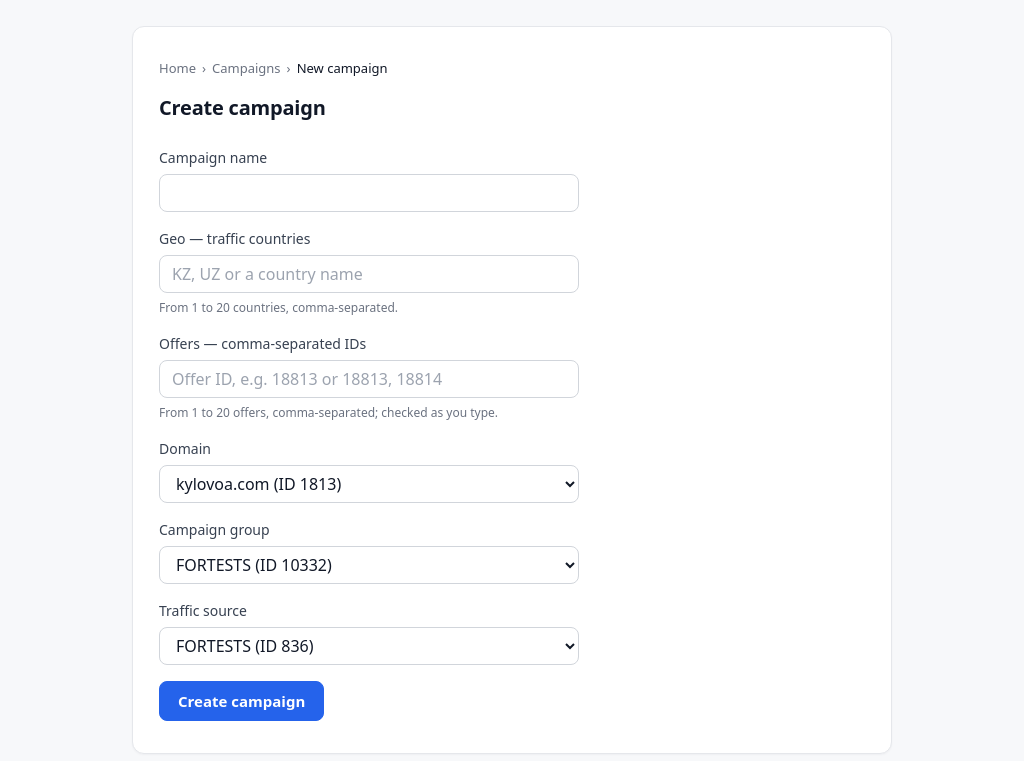
Test: NewCampaignPage — validation › empty form: name error, no POST
Expected: the dropdown with id "campaign-domain" shows "kylovoa.com (ID 1813)", 159,464 -> 579,502
Step 1. Type "leo_kz" into the field with id "campaign-name" → (369, 192), box 159,174 -> 579,212
Step 2. Type "KZ" into the dropdown with id "geo-input" → (369, 274), box 159,254 -> 579,292
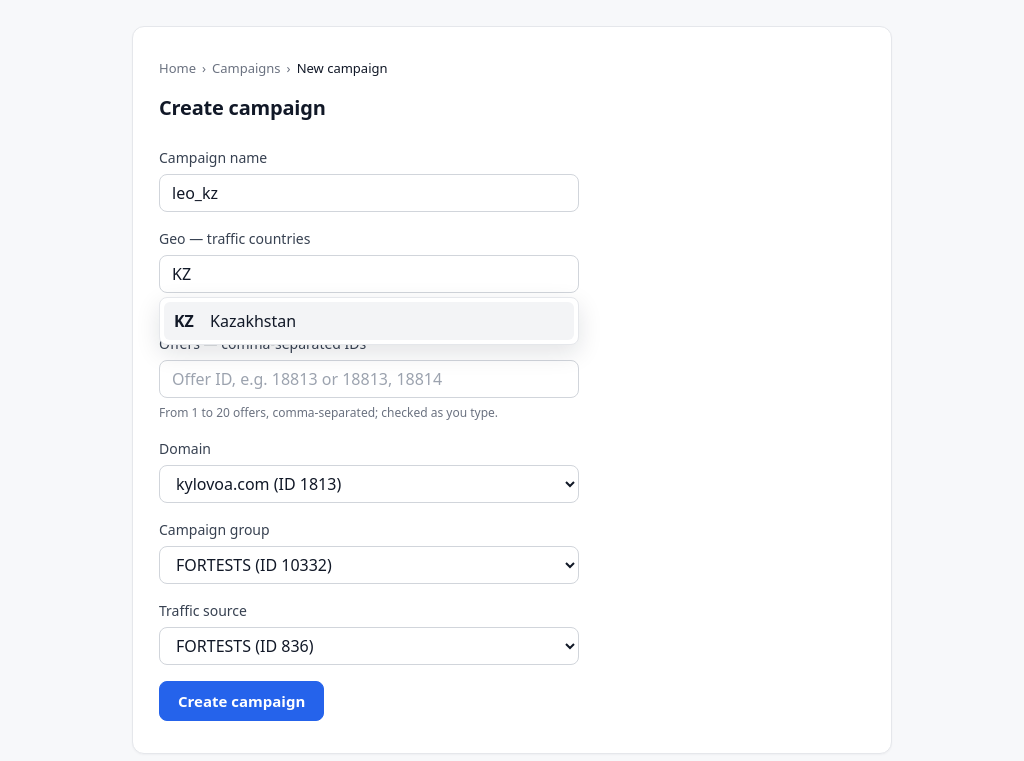
Step 3. Press Enter in the dropdown with id "geo-input", box 159,254 -> 579,292
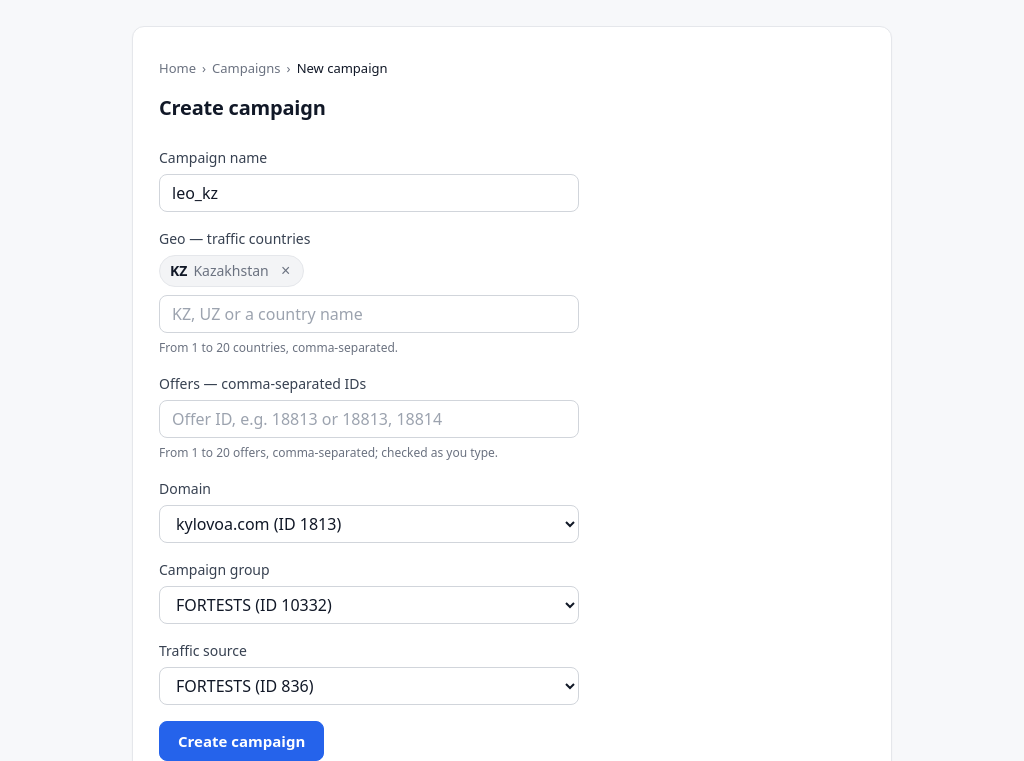
Step 4. Type "18813" into the field with id "offer-input" → (369, 418), box 159,400 -> 579,438
Step 5. Press Enter in the field with id "offer-input", box 159,400 -> 579,438
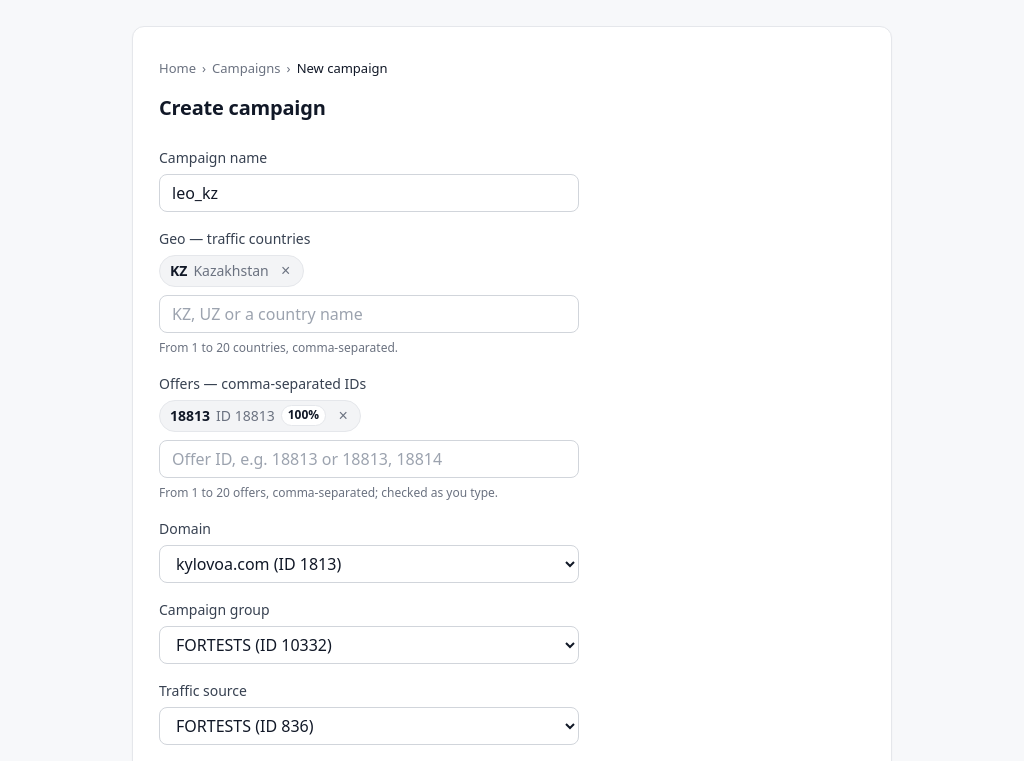
Step 6. Clear the field with id "campaign-name" → (369, 192), box 159,174 -> 579,212
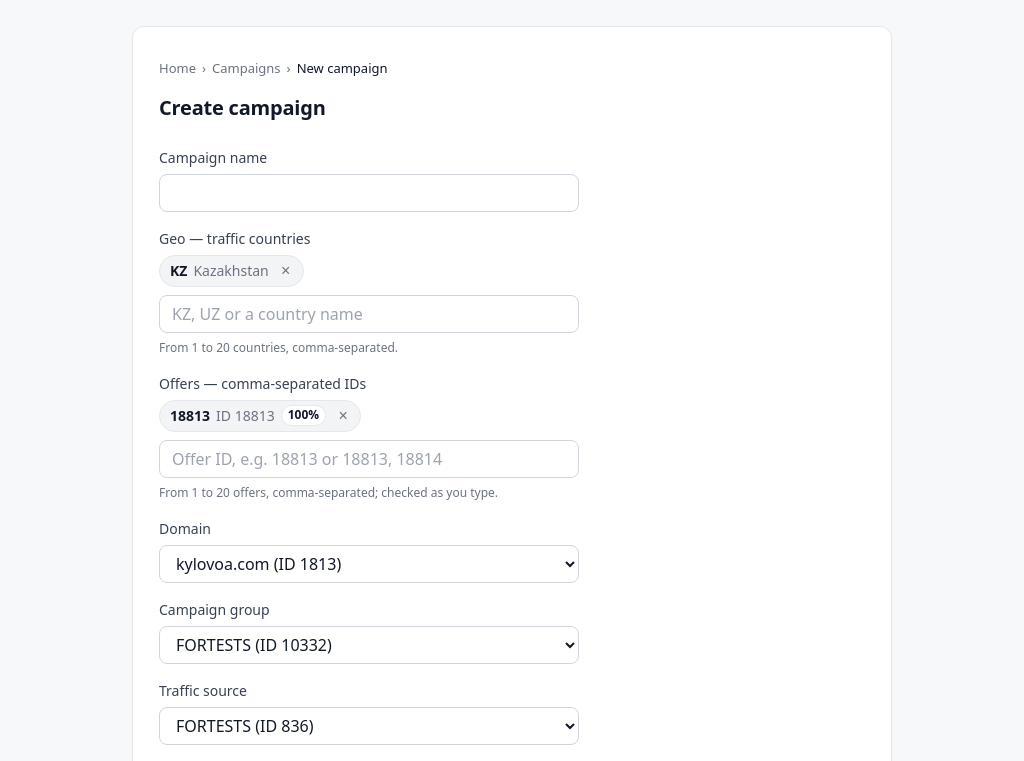
Step 7. Clear the field with id "offer-input" → (369, 458), box 159,440 -> 579,478
(page scrolled)
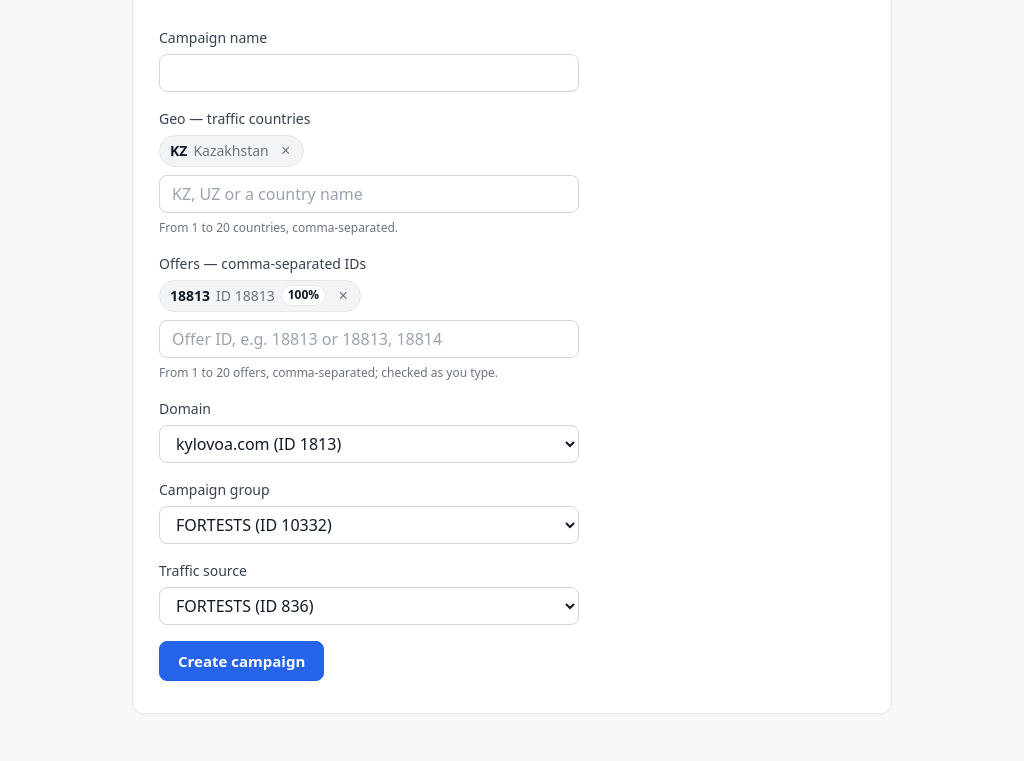
Step 8. Click the button "Create campaign" → (242, 660), box 159,640 -> 324,680
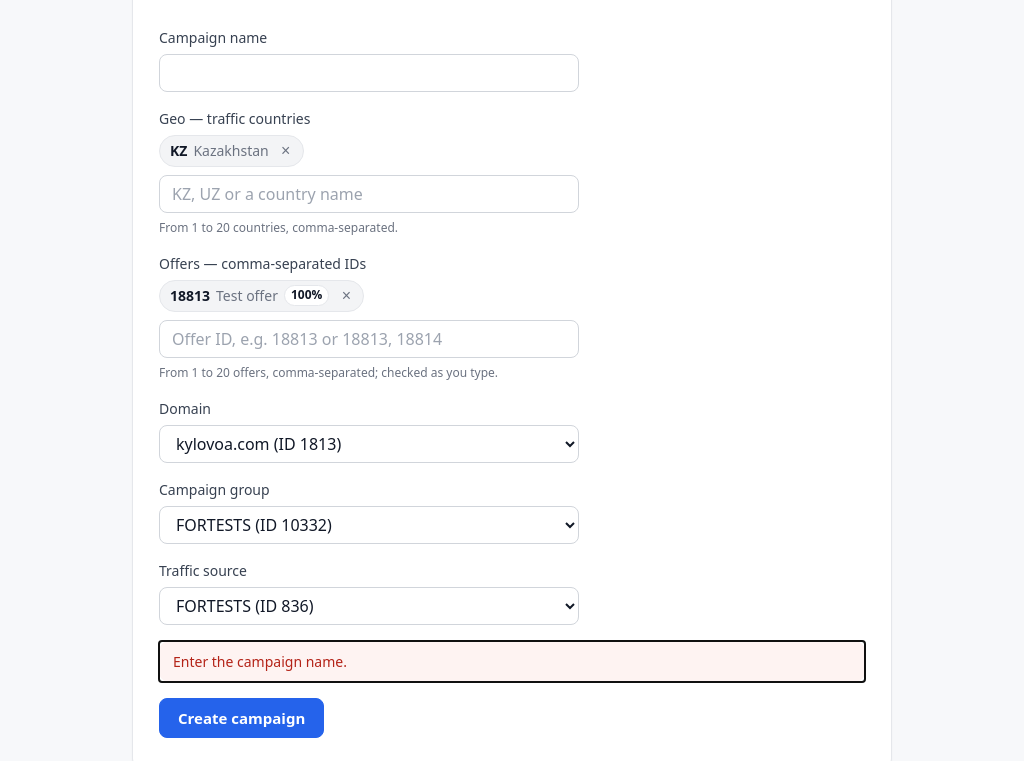
Expected: the message "Enter the campaign name." is shown, 159,640 -> 865,682
